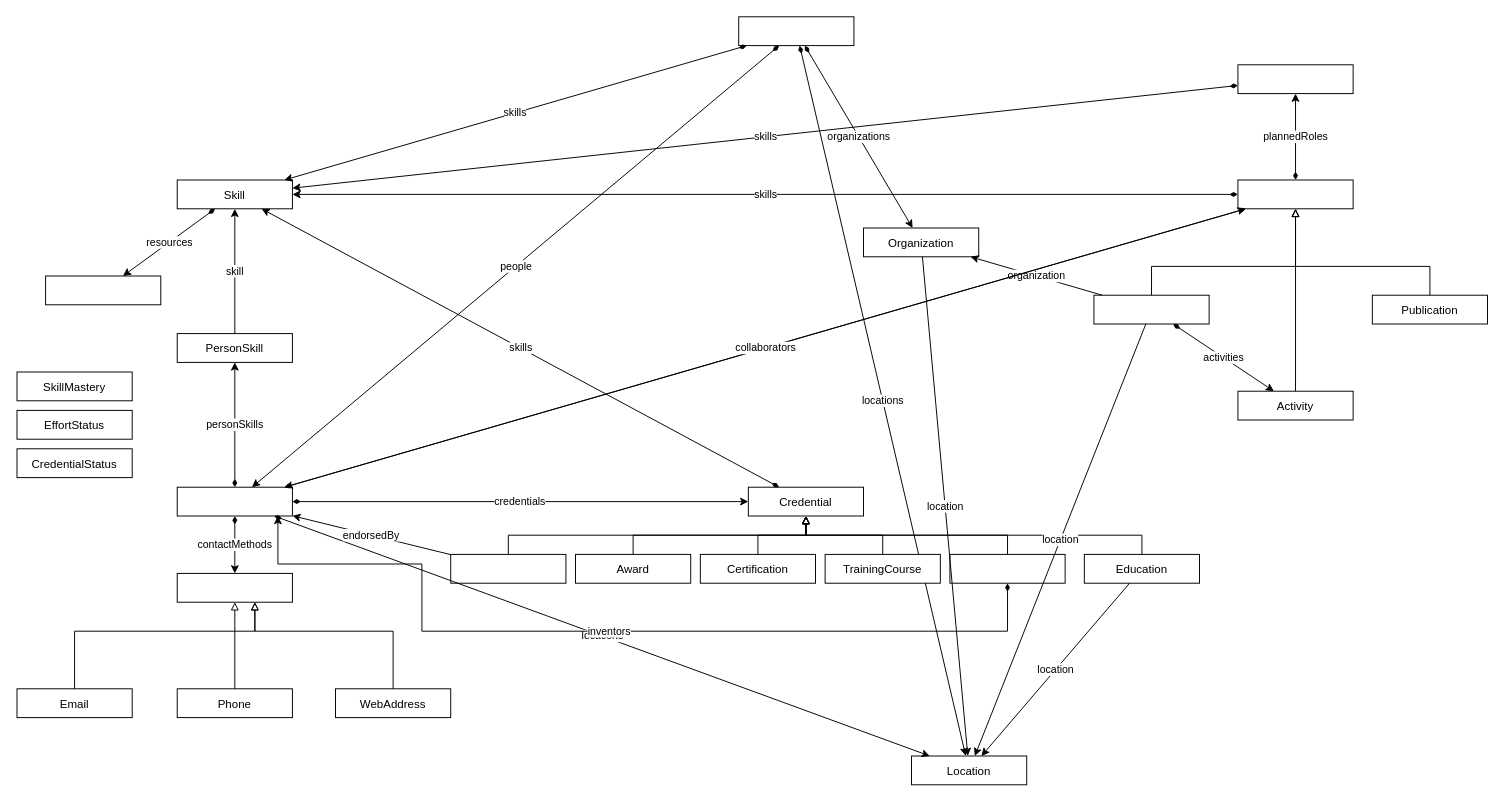
This 1504x802 diagram has some shape labels left out. Here are the shapes that lost their labels. From the top down, the box of each, then its label:
(738, 16, 854, 46): KnowledgeGraph
(1237, 64, 1353, 94): PlannedRole
(1237, 179, 1353, 209): Effort
(45, 275, 161, 305): SkillResource
(1093, 294, 1209, 324): Position
(176, 486, 292, 516): Person
(176, 572, 292, 602): ContactMethod
(450, 553, 566, 583): Endorsement
(949, 553, 1065, 583): Patent
